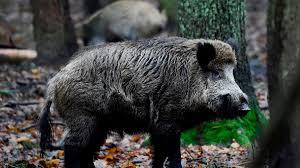wildboar: (37, 36, 253, 168)
